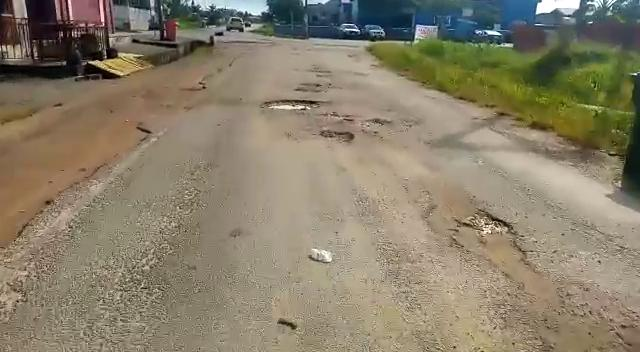pothole: (451, 207, 562, 305), (260, 97, 320, 109), (315, 129, 357, 142)
